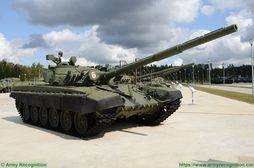t72: (17, 24, 236, 139)
